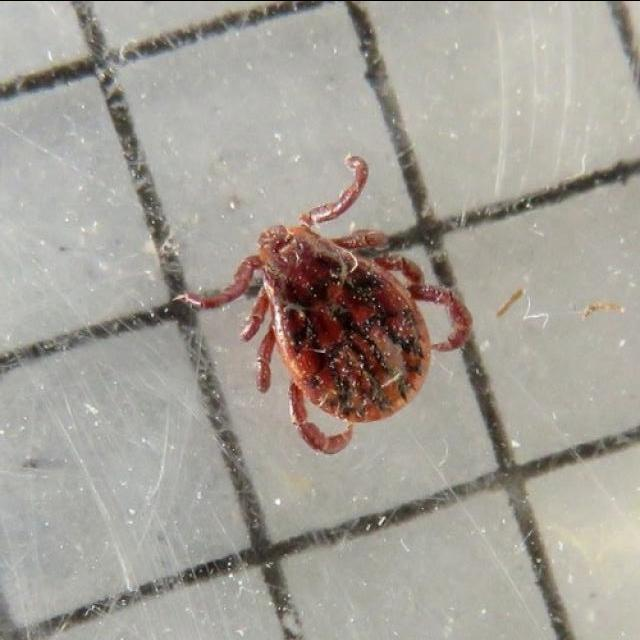Dermacentor Reticulatus-M: (180, 154, 472, 453)
